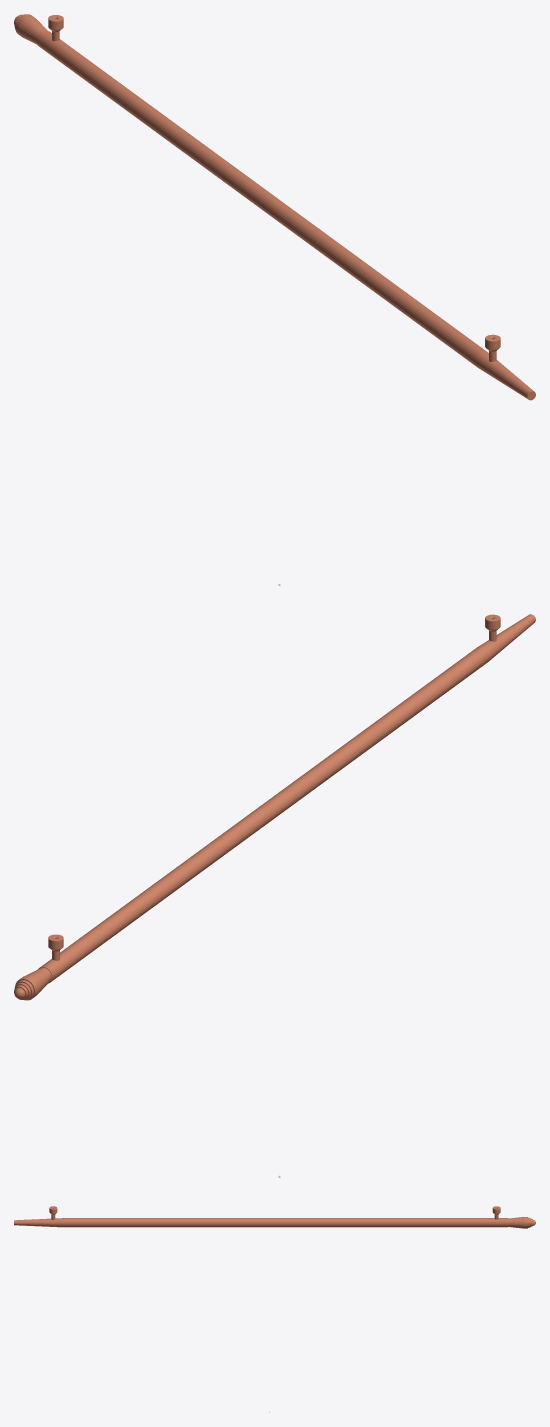
Rendered from mace pvd r gold.glb.
3 views of the same model, one above another, from view 1: azimuth 30°, elevation 25°; view 2: azimuth 150°, elevation 25°; view 3: azimuth 270°, elevation 25° (orthographic). The views are drawn at different scales.
Visible parts, largest first — view 1: CB_MACE; view 2: CB_MACE; view 3: CB_MACE.
Part boxes in pixels (bbox=[...]): CB_MACE: bbox=[14, 14, 535, 400]; CB_MACE: bbox=[14, 614, 535, 1000]; CB_MACE: bbox=[14, 1206, 535, 1228].
Size of the model in its own units: 0.00793 by 0.1516 by 0.35.
